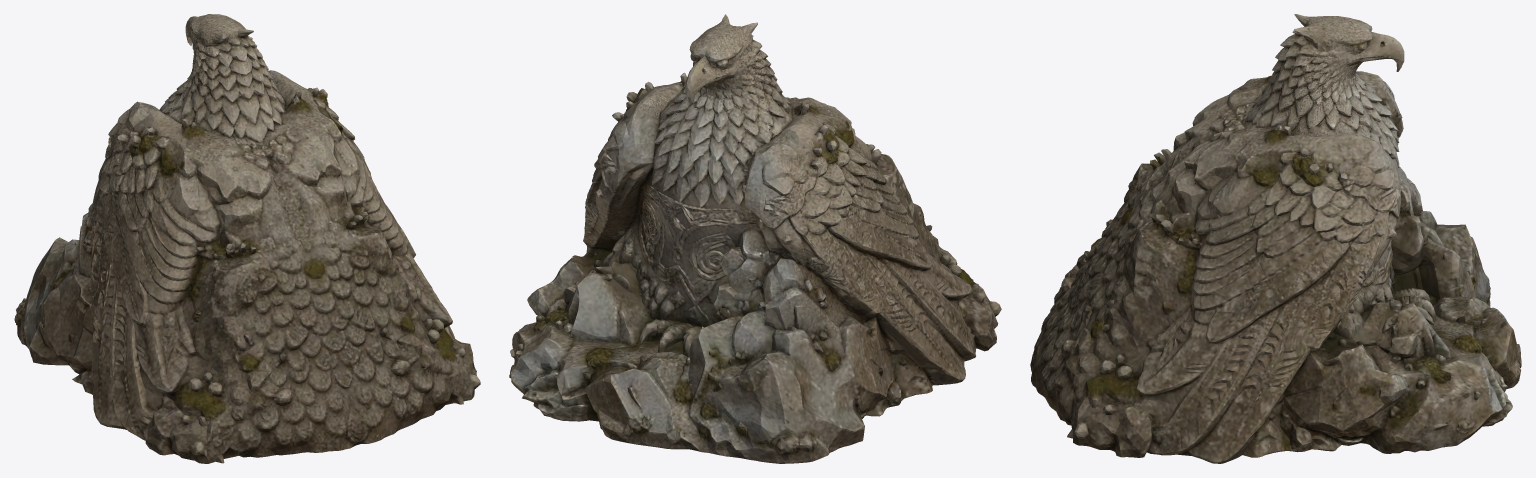
The model's file is tripo_convert_45d6beac-12e0-45e6-967c-9ed5944d213d.fbx.
The picture shows the model from 3 angles, left to right: view 1: azimuth 30°, elevation 25°; view 2: azimuth 150°, elevation 25°; view 3: azimuth 270°, elevation 25°; orthographic projection. The views are drawn at different scales.
Visible parts, largest first — view 1: tripo_node_45d6beac; view 2: tripo_node_45d6beac; view 3: tripo_node_45d6beac.
Boxes of the visible parts, x1,y1,x2,y2 form: tripo_node_45d6beac: (14, 14, 480, 463); tripo_node_45d6beac: (509, 14, 1001, 463); tripo_node_45d6beac: (1030, 14, 1521, 463).
Bounding box in the file's own units: 0.8836 × 0.7918 × 0.9972.
Materials: 1 (1 with a texture image).
